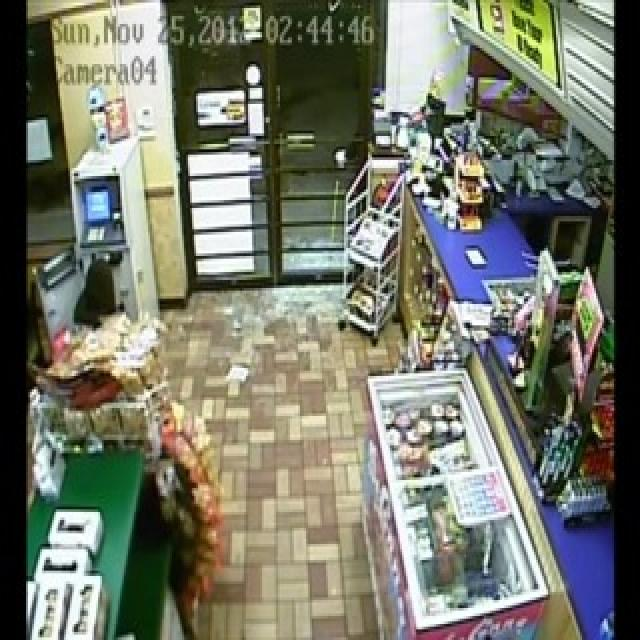thief: (66, 253, 124, 328)
